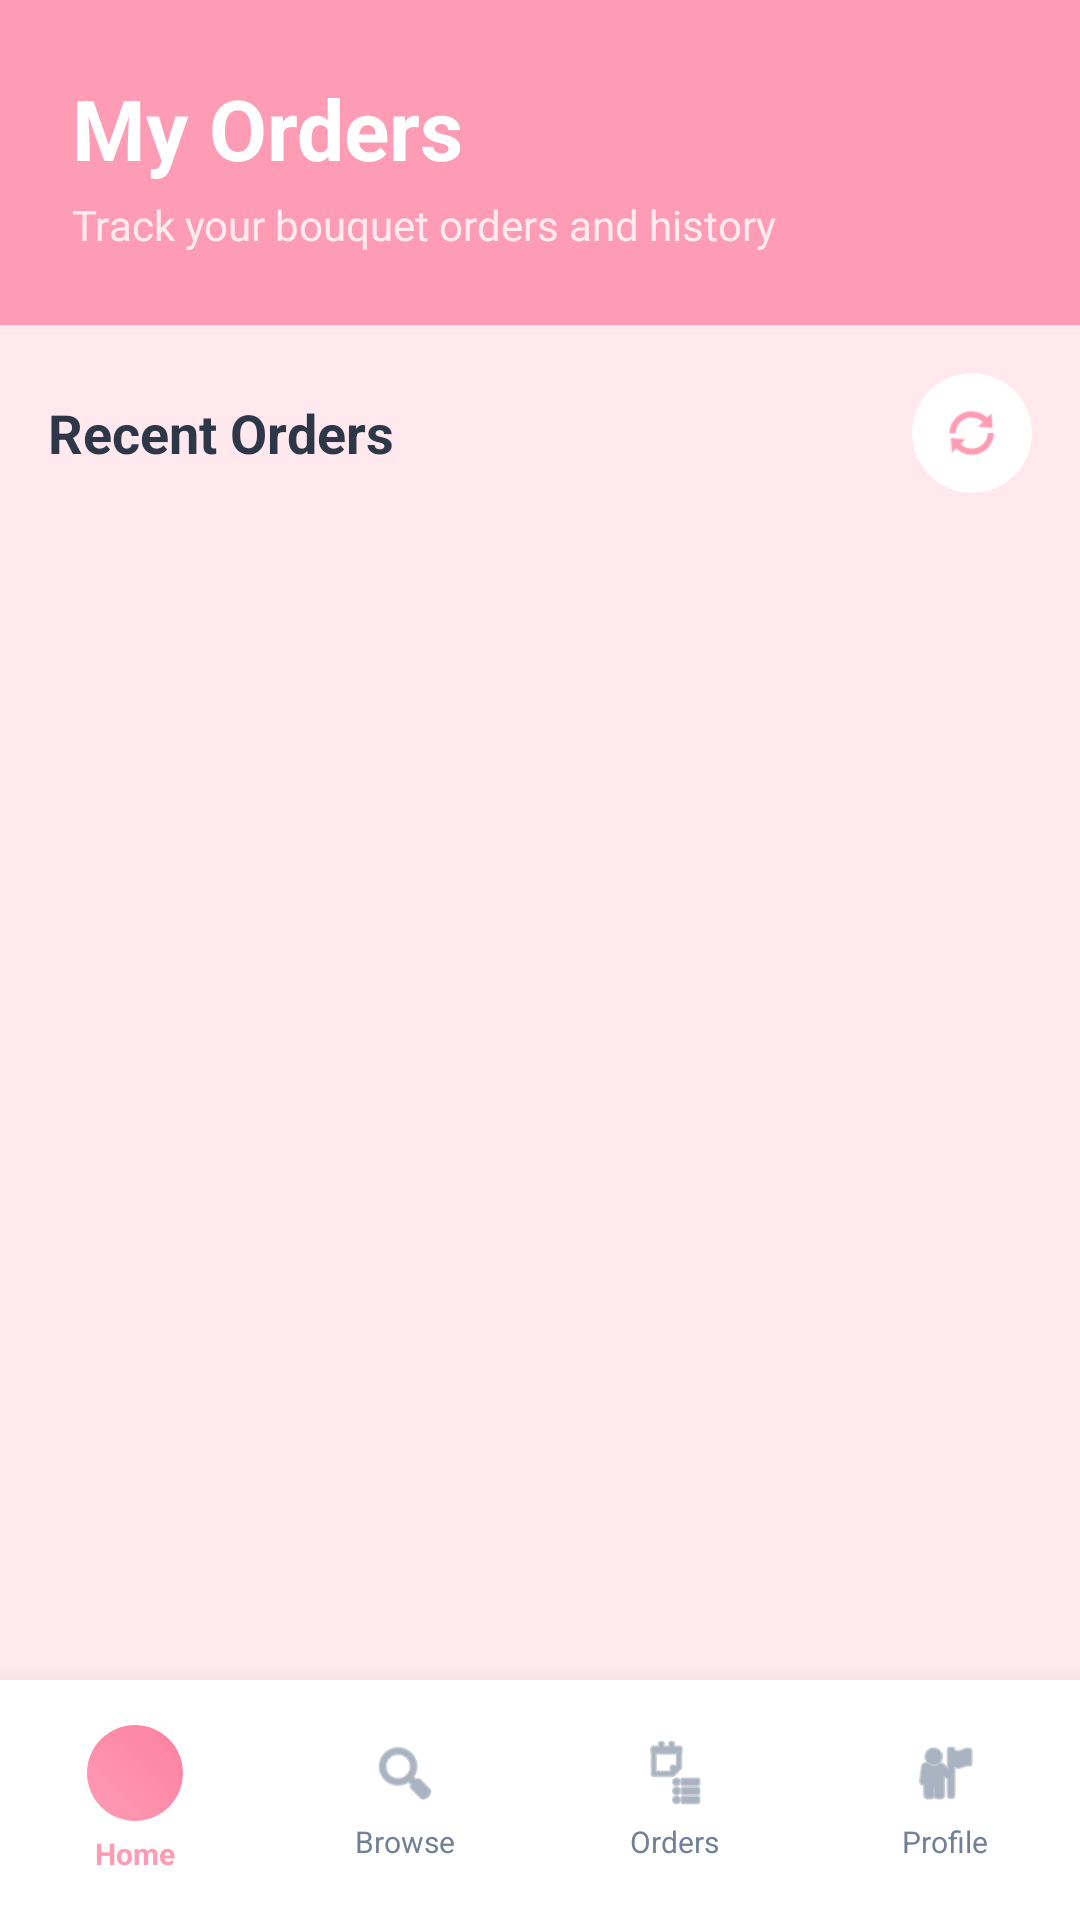

Screen size 1080px×1920px. Icon name, then its center in pixels as [x,y]:
agenda: [675,1773]
myplaces: [946,1773]
popup sync: [972,433]
search: [405,1773]
